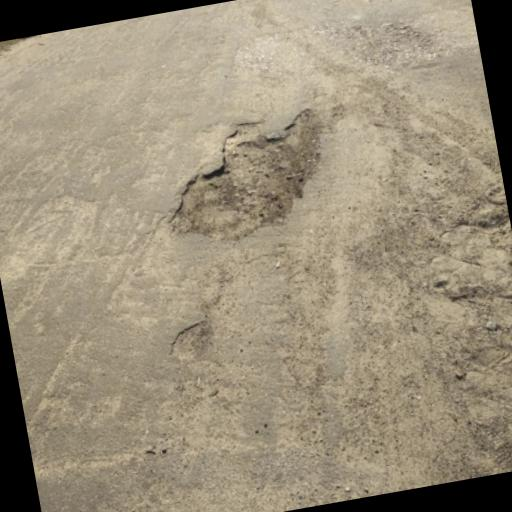pothole: (149, 104, 341, 254), (163, 316, 217, 366)
